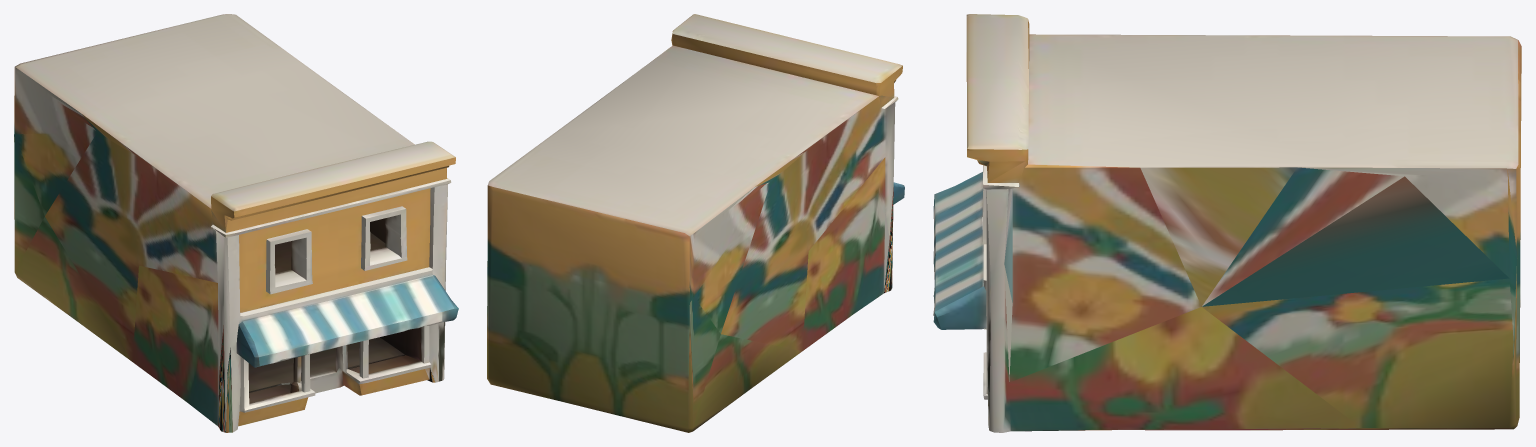
Rendered from mission-mural.glb.
The picture shows the model from 3 angles, left to right: view 1: azimuth 30°, elevation 25°; view 2: azimuth 150°, elevation 25°; view 3: azimuth 270°, elevation 25°; orthographic projection. The views are drawn at different scales.
Parts seen in each view (by area): view 1: mission-mural; view 2: mission-mural; view 3: mission-mural.
Boxes of the visible parts, <box> form: mission-mural: <box>14,14,458,432</box>; mission-mural: <box>487,14,904,432</box>; mission-mural: <box>933,14,1521,432</box>.
Size of the model in its own units: 4.4 by 4.3 by 8.
1 material, 1 textured.
